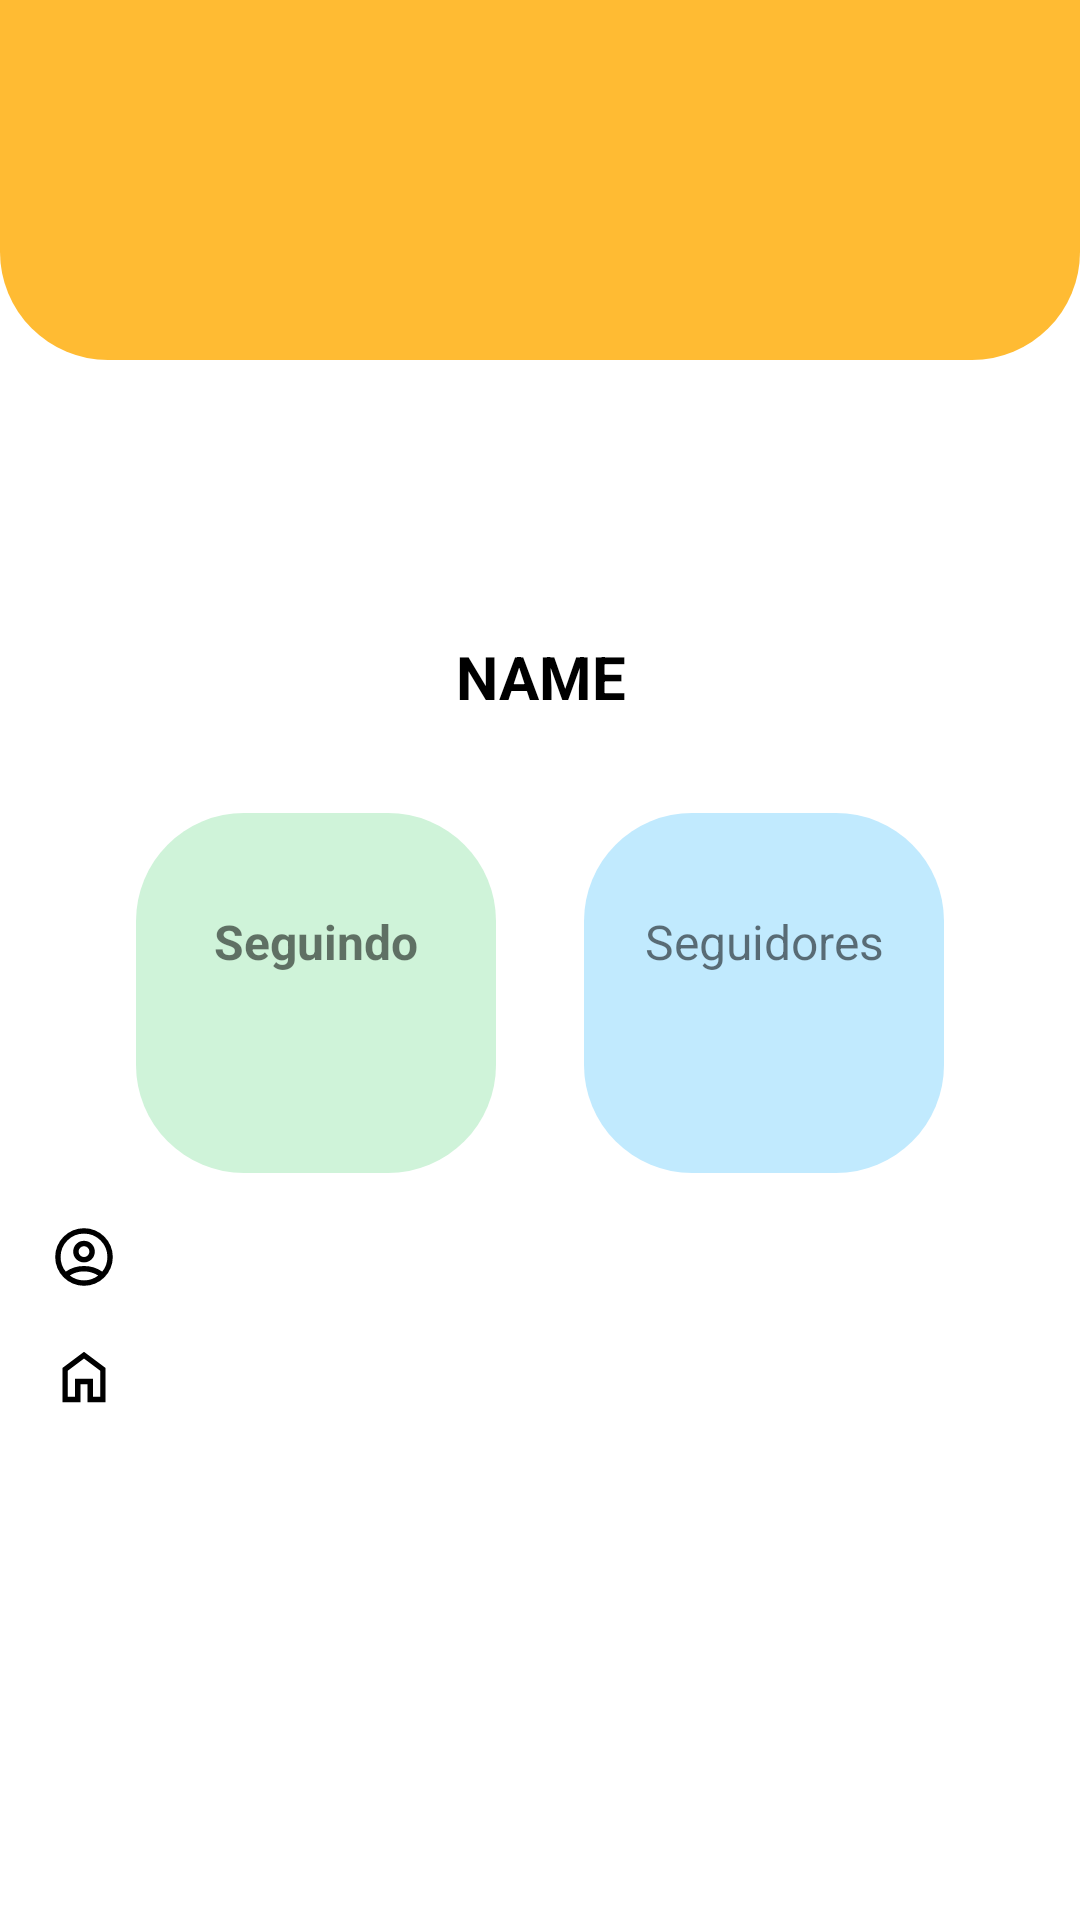

Where to tap for icons on this 1080px x 1920px app screen, as (x,y):
address: (84,1377)
profile: (84,1257)
